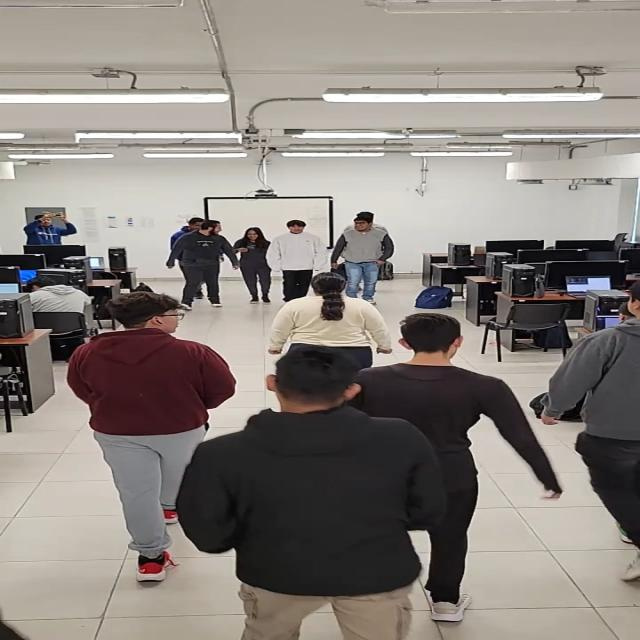Persona: (211, 351, 424, 640), (385, 310, 554, 640), (82, 292, 186, 569), (289, 267, 383, 352), (172, 221, 231, 305), (336, 216, 391, 293), (275, 219, 325, 299), (233, 225, 272, 302), (16, 207, 76, 244)
